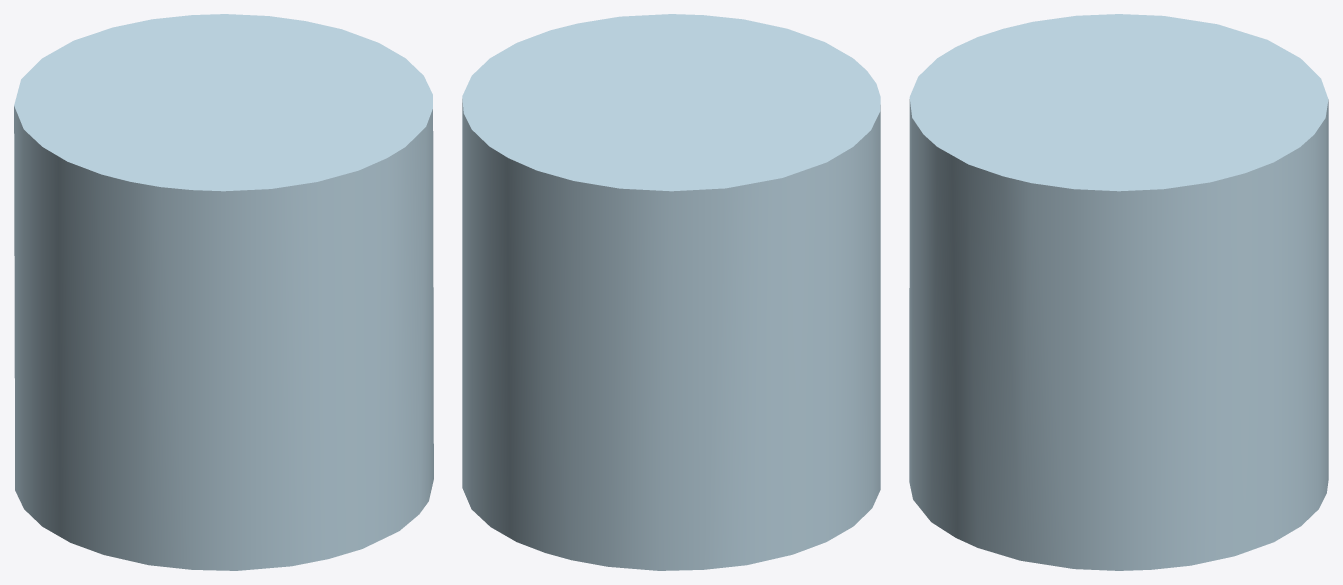
File: Dead.fbx
The picture shows the model from 3 angles, left to right: view 1: azimuth 30°, elevation 25°; view 2: azimuth 150°, elevation 25°; view 3: azimuth 270°, elevation 25°; orthographic projection.
Visible parts, largest first — view 1: Part 1; view 2: Part 1; view 3: Part 1.
Part boxes in pixels (bbox=[...]): Part 1: bbox=[14, 14, 433, 570]; Part 1: bbox=[462, 14, 880, 570]; Part 1: bbox=[909, 14, 1328, 570].
Bounding box in the file's own units: 100 × 100 × 100.
